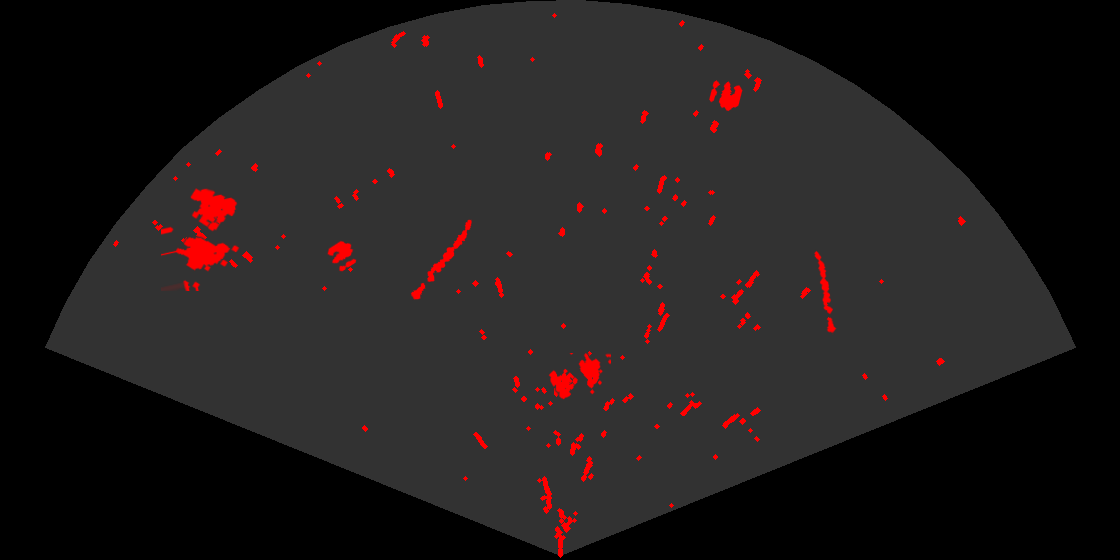ball: (708, 79, 744, 113), (326, 239, 358, 273)
cage: (161, 187, 241, 291), (547, 353, 611, 401)
chain: (409, 218, 473, 301), (813, 249, 838, 335)
